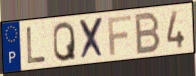4: (166, 9, 187, 50)
B: (134, 10, 162, 56)
F: (106, 14, 133, 57)
L: (25, 26, 48, 66)
Q: (52, 20, 77, 63)
X: (78, 16, 106, 62)
